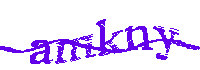a: (30, 38, 50, 66)
k: (95, 18, 123, 58)
m: (54, 33, 96, 64)
n: (124, 25, 154, 55)
y: (152, 24, 180, 62)
